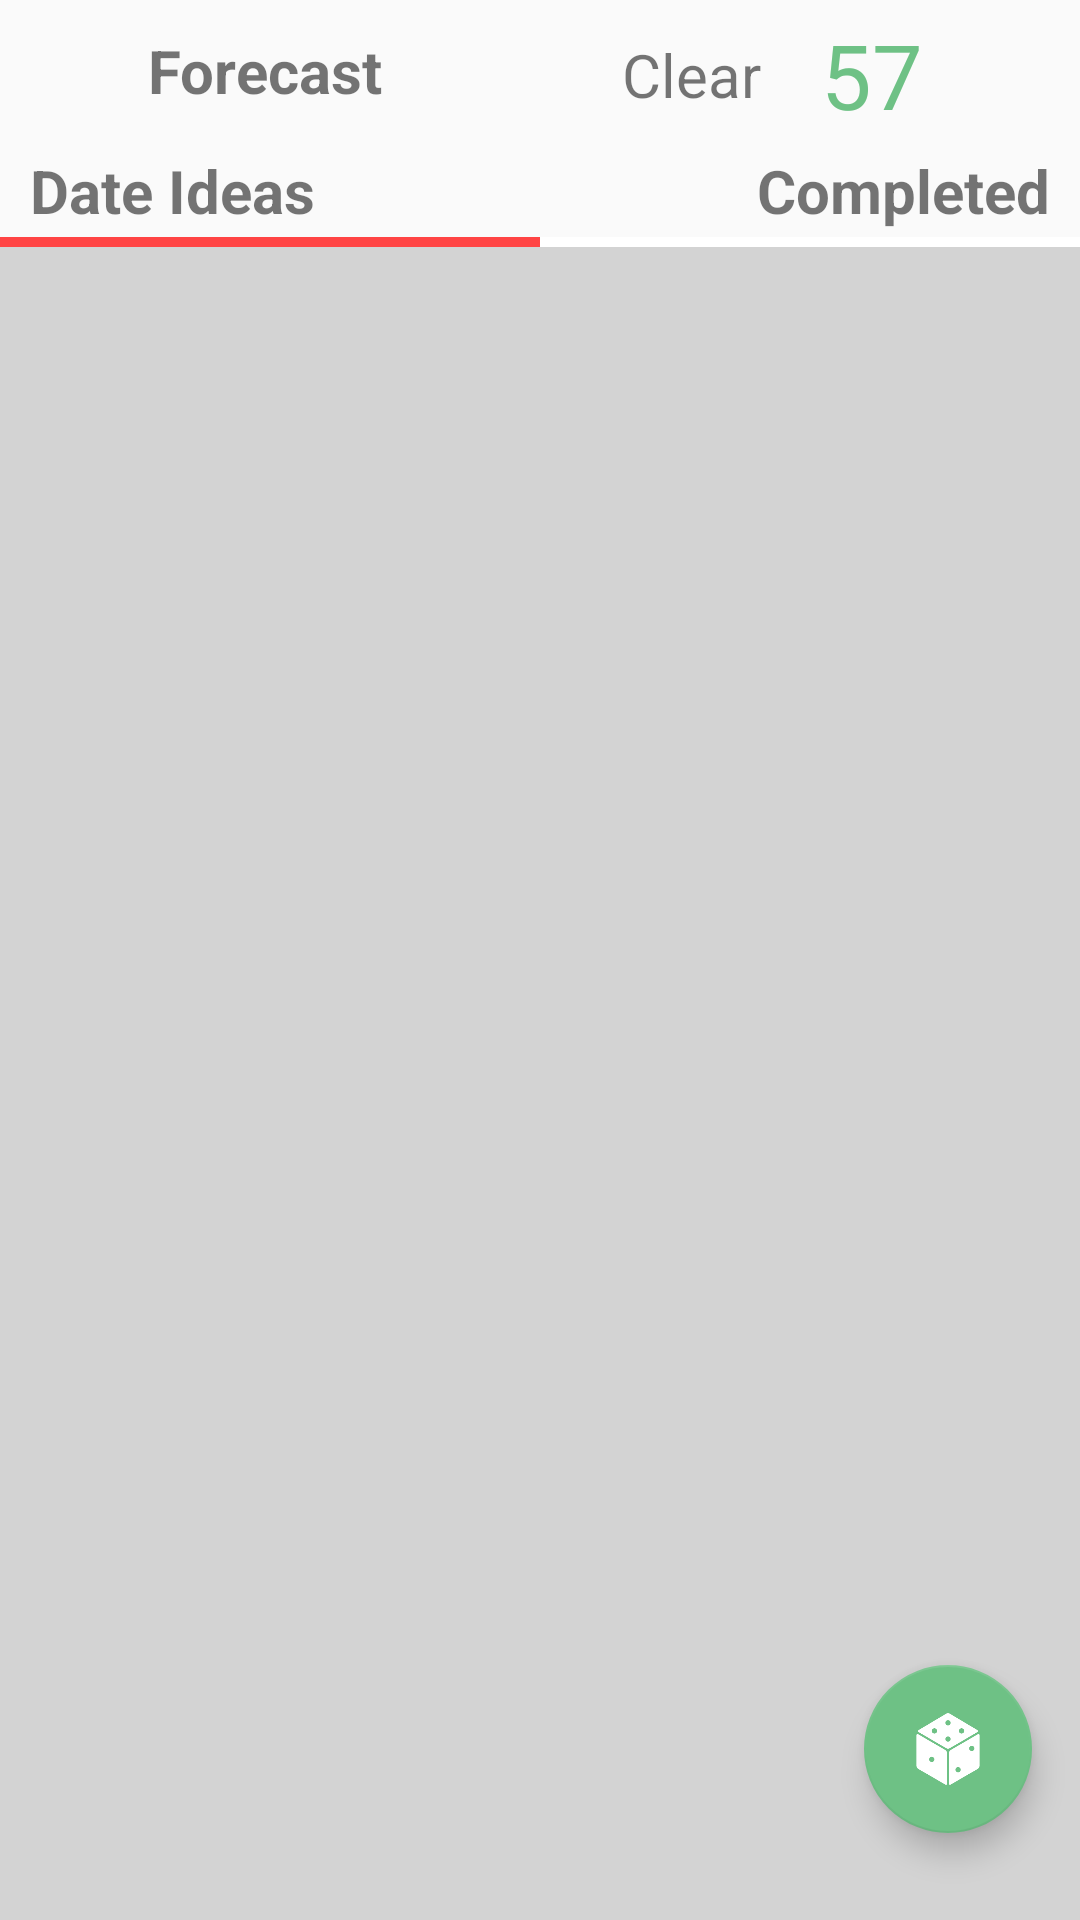

Point at icon controls on the screen. Image size 1080×1920, points as [x,y].
dice: [948,1749]
